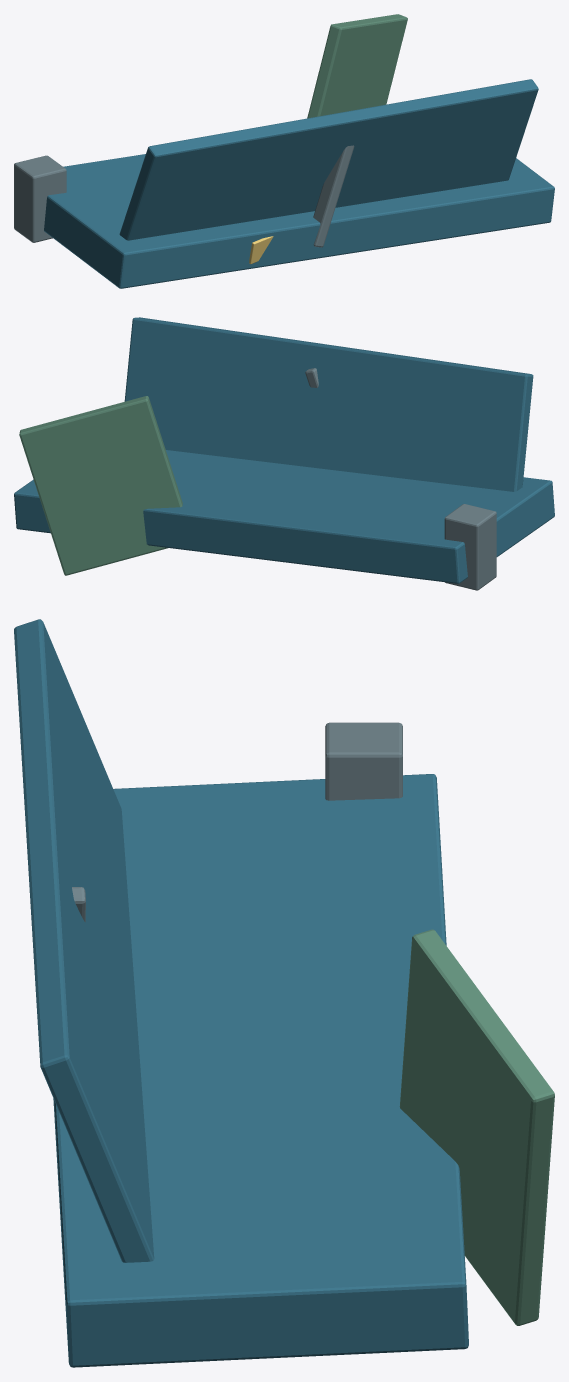
The model's file is armored_container_d3.glb.
3 views of the same model, one above another, from view 1: azimuth 30°, elevation 25°; view 2: azimuth 150°, elevation 25°; view 3: azimuth 270°, elevation 25° (orthographic). The views are drawn at different scales.
Visible parts, largest first — view 1: Folded side wall.001, Container floor wreck.001, Door slab.001, Surviving corner casting.001, Bent corrugated rib.001, Detached ID plate.001; view 2: Folded side wall.001, Container floor wreck.001, Door slab.001, Surviving corner casting.001; view 3: Container floor wreck.001, Folded side wall.001, Door slab.001, Surviving corner casting.001.
Part boxes in pixels (x1=…): Folded side wall.001: x1=119, y1=79, x2=538, y2=240; Container floor wreck.001: x1=44, y1=154, x2=554, y2=288; Door slab.001: x1=307, y1=14, x2=407, y2=118; Surviving corner casting.001: x1=14, y1=155, x2=66, y2=242; Bent corrugated rib.001: x1=313, y1=145, x2=354, y2=247; Detached ID plate.001: x1=249, y1=236, x2=273, y2=264; Folded side wall.001: x1=124, y1=317, x2=533, y2=491; Container floor wreck.001: x1=14, y1=450, x2=554, y2=583; Door slab.001: x1=19, y1=396, x2=182, y2=575; Surviving corner casting.001: x1=444, y1=504, x2=496, y2=590; Container floor wreck.001: x1=53, y1=774, x2=468, y2=1367; Folded side wall.001: x1=14, y1=619, x2=154, y2=1262; Door slab.001: x1=399, y1=929, x2=554, y2=1325; Surviving corner casting.001: x1=325, y1=722, x2=402, y2=800.
Size of the model in its own units: 4.65 by 1.88 by 2.43.
